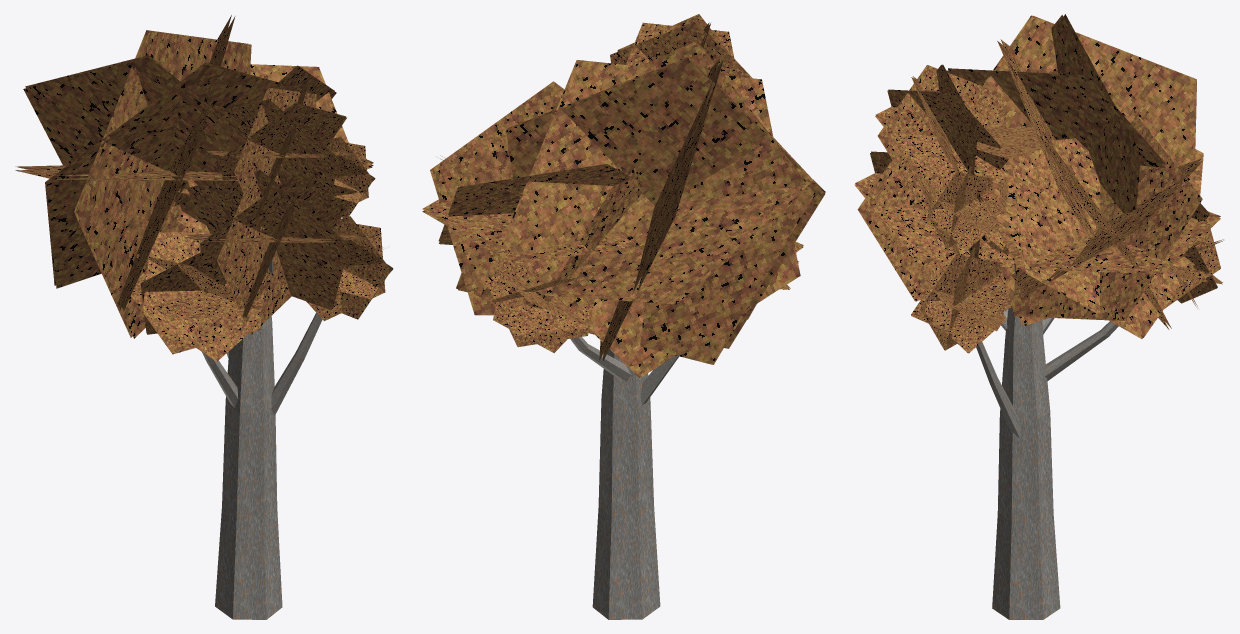
File: arbol.gltf
3 renders of one model, left to right at view 1: azimuth 30°, elevation 25°; view 2: azimuth 150°, elevation 25°; view 3: azimuth 270°, elevation 25°, orthographic. The views are drawn at different scales.
Parts seen in each view (by area): view 1: Plane, cubito; view 2: Plane, cubito; view 3: Plane, cubito.
Part boxes in pixels (x1,y1,x2,y2): Plane: (15,15,393,361); cubito: (202,259,322,619); Plane: (422,14,825,377); cubito: (570,337,678,619); Plane: (854,14,1223,353); cubito: (965,263,1118,619).
Size of the model in its own units: 4.09 by 6.74 by 4.08.
Materials: 2 (2 with a texture image).
